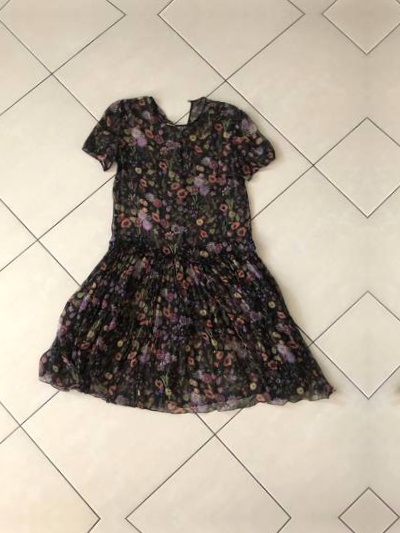Dress: (31, 67, 335, 424)
